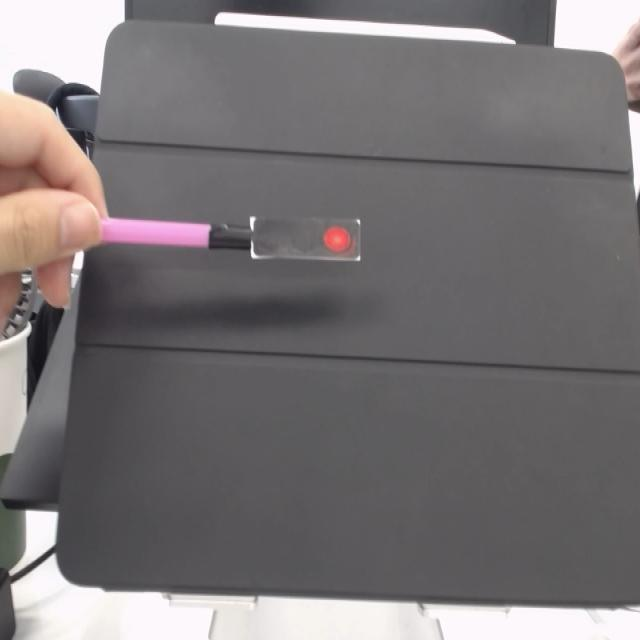traffic light: (247, 212, 369, 268)
